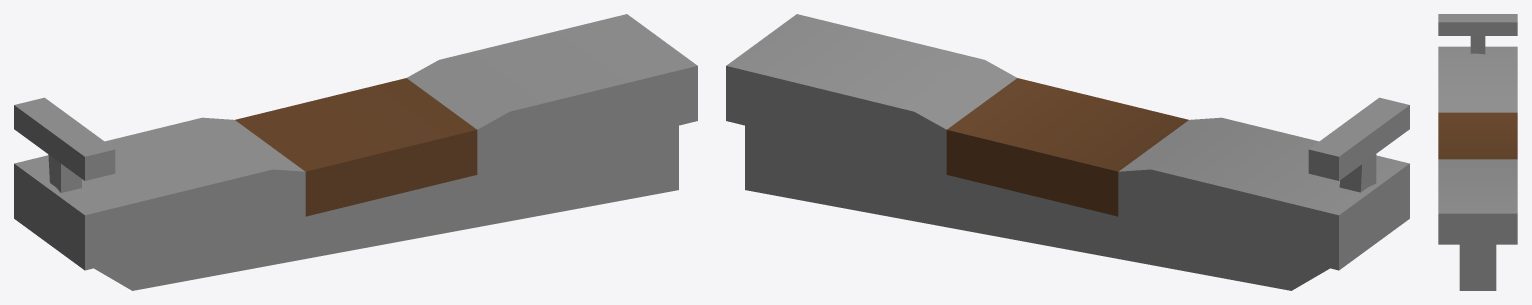
Rendered from BlocLine1.FBX.
The picture shows the model from 3 angles, left to right: view 1: azimuth 30°, elevation 25°; view 2: azimuth 150°, elevation 25°; view 3: azimuth 270°, elevation 25°; orthographic projection. The views are drawn at different scales.
Parts seen in each view (by area): view 1: BlocLine1; view 2: BlocLine1; view 3: BlocLine1.
Part boxes in pixels (<box>): BlocLine1: <box>14,14,697,290</box>; BlocLine1: <box>726,14,1409,290</box>; BlocLine1: <box>1438,14,1517,290</box>.
Bounding box in the file's own units: 5 × 1.53 × 1.
